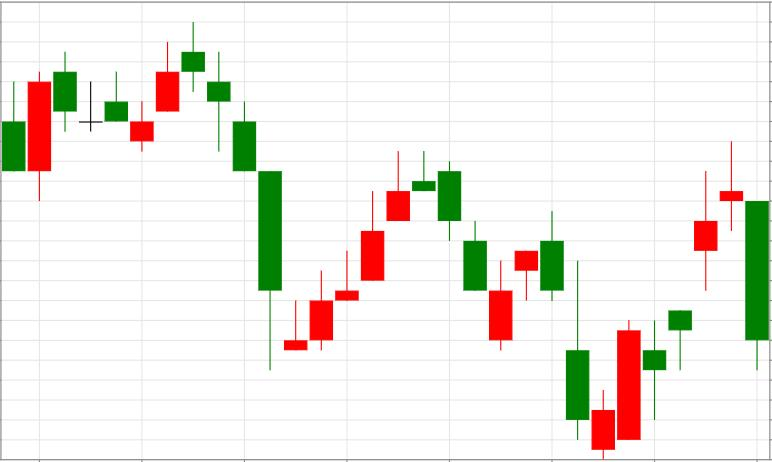evening_star_fall: (592, 141, 769, 460)
shooting_star_fall: (284, 151, 410, 351)
